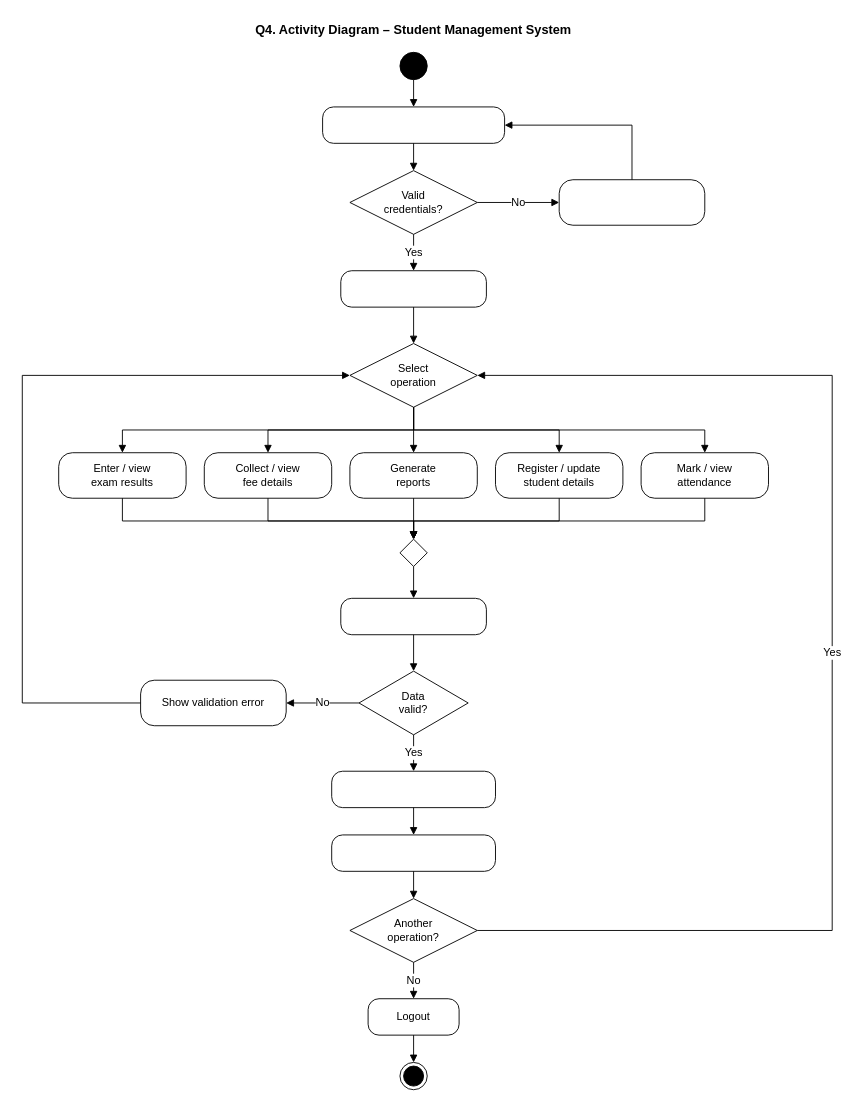
This 857x1106 diagram has some shape labels left out. The box of each missing label's shape, as (x1, y1, x2, y2) in pixels:
Display confirmation: (331, 834, 495, 871)
Display dashboard: (340, 270, 486, 307)
Enter username & password: (322, 106, 505, 143)
Show error message: (558, 179, 705, 225)
Update student database: (331, 770, 495, 808)
Validate entered data: (340, 597, 486, 635)
